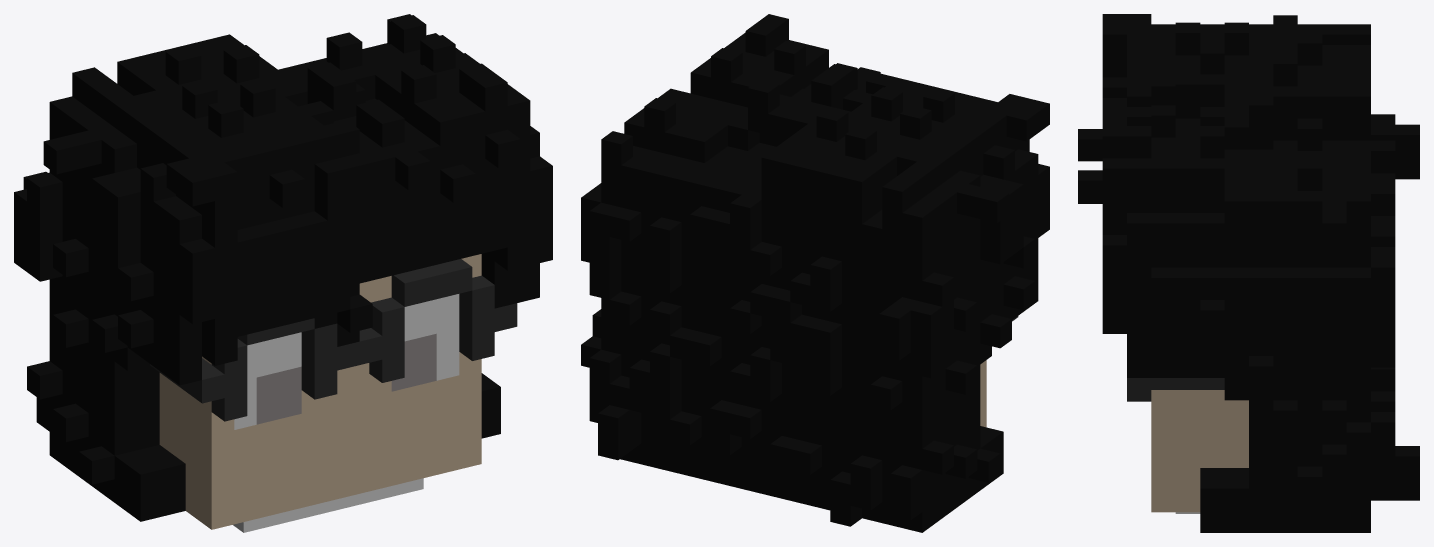
The model's file is cabeza.obj.
3 views of the same model, side by side, from view 1: azimuth 30°, elevation 25°; view 2: azimuth 150°, elevation 25°; view 3: azimuth 270°, elevation 25° (orthographic). The views are drawn at different scales.
Visible parts, largest first — view 1: cabeza; view 2: cabeza; view 3: cabeza.
Boxes of the visible parts, x1,y1,x2,y2 form: cabeza: (14,14,552,532); cabeza: (581,14,1049,532); cabeza: (1078,14,1419,532).
Bounding box in the file's own units: 2 × 1.8 × 1.4.
1 material, 1 textured.
